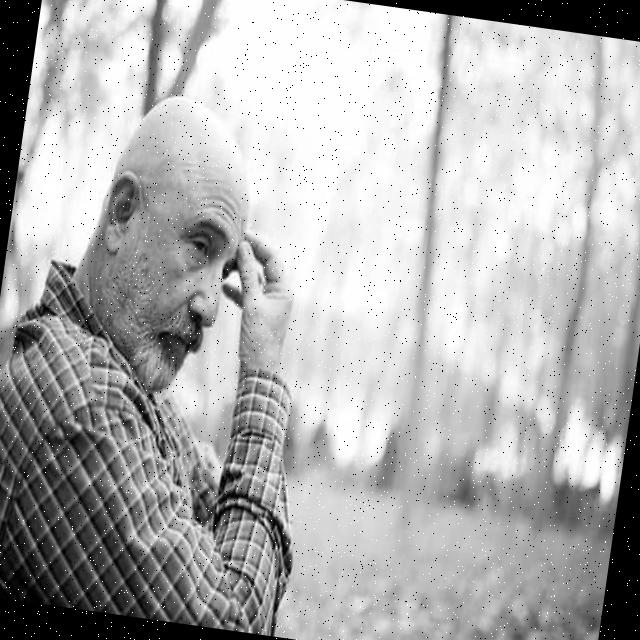Sadness: (116, 150, 251, 393)
